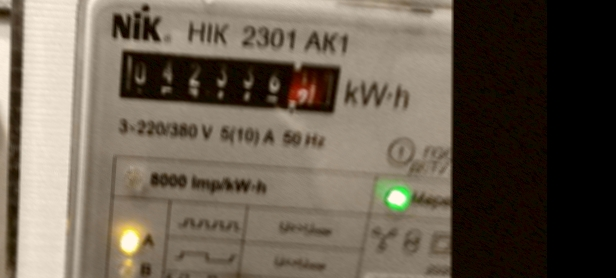0: (133, 57, 146, 86)
2: (185, 59, 203, 86)
3: (212, 59, 228, 88), (241, 60, 255, 88)
4: (159, 58, 175, 85)
6: (266, 66, 281, 94)
screen: (108, 39, 348, 122)
